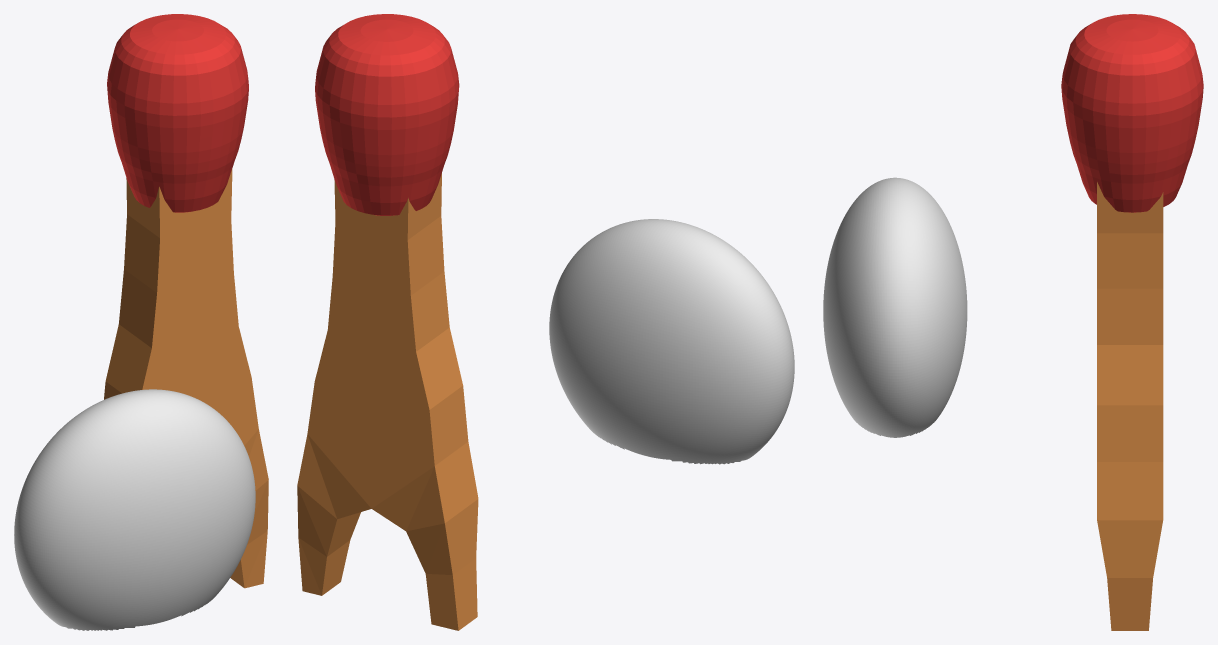
The model's file is matchstick.dae.
The picture shows the model from 3 angles, left to right: view 1: azimuth 30°, elevation 25°; view 2: azimuth 150°, elevation 25°; view 3: azimuth 270°, elevation 25°; orthographic projection.
Parts seen in each view (by area): view 1: Quad Sphere, Cube, Cube.001; view 2: Cube, Quad Sphere, Cube.001; view 3: Quad Sphere, Cube, Cube.001.
Part boxes in pixels (x1,y1,x2,y2): Quad Sphere: [14, 389, 255, 630]; Cube: [104, 169, 268, 588]; Cube.001: [107, 14, 248, 212]; Cube: [297, 173, 478, 630]; Quad Sphere: [549, 219, 794, 464]; Cube.001: [315, 14, 459, 215]; Quad Sphere: [823, 177, 967, 437]; Cube: [1097, 182, 1163, 630]; Cube.001: [1061, 14, 1203, 212].
Size of the model in its own units: 4.87 by 4.53 by 7.45.
